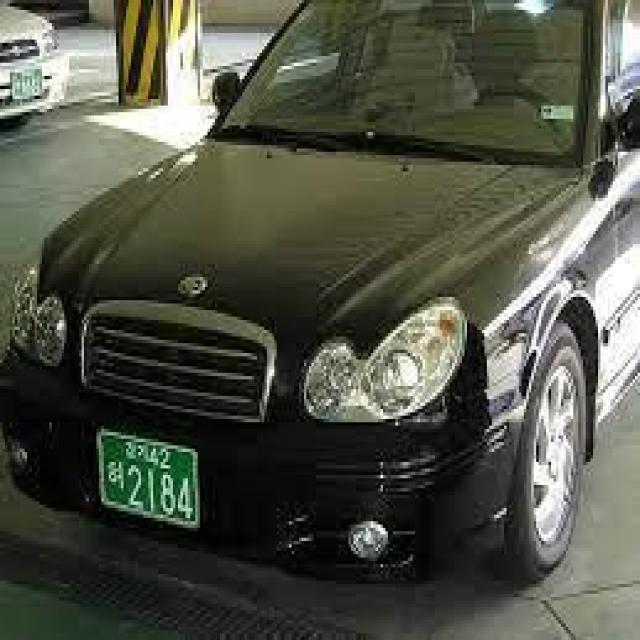car: (0, 0, 640, 584)
illegal_plate: (90, 422, 207, 544)
